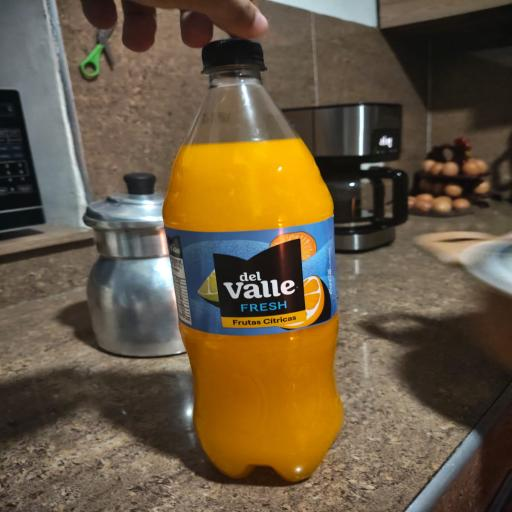Jugo del valle: (116, 27, 374, 487)
